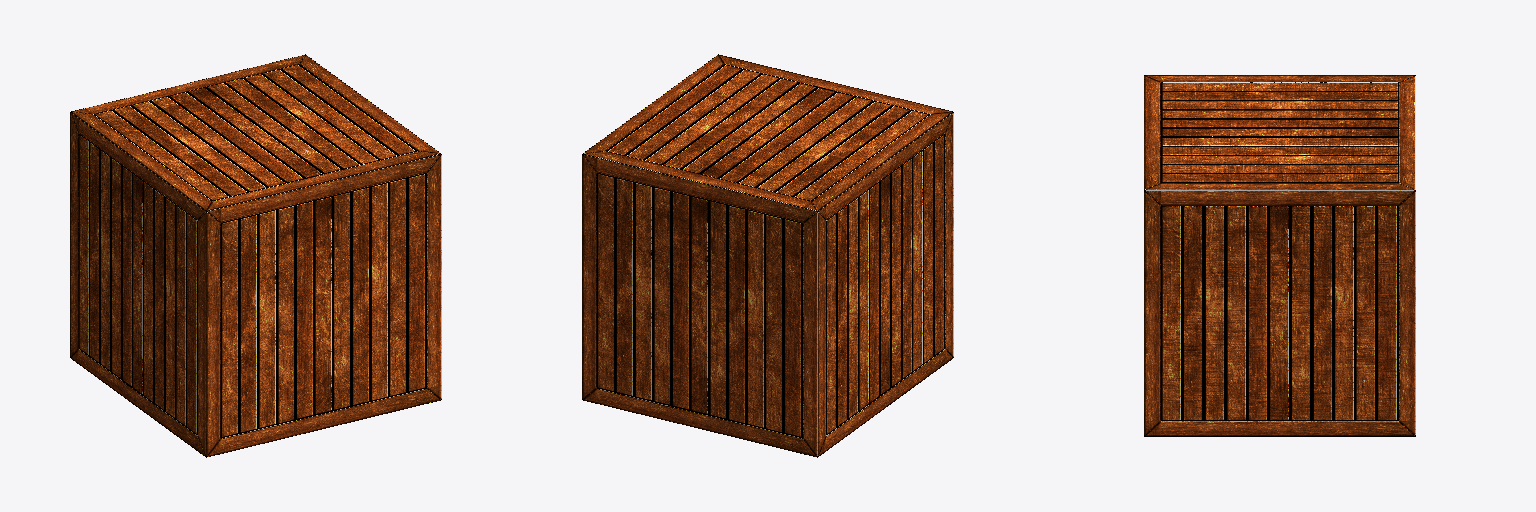
3 renders of one model, left to right at view 1: azimuth 30°, elevation 25°; view 2: azimuth 150°, elevation 25°; view 3: azimuth 270°, elevation 25°, orthographic.
Visible parts, largest first — view 1: wood-box-s3; view 2: wood-box-s3; view 3: wood-box-s3.
Boxes of the visible parts, x1=… form: wood-box-s3: x1=70, y1=54, x2=441, y2=457; wood-box-s3: x1=582, y1=54, x2=953, y2=457; wood-box-s3: x1=1144, y1=75, x2=1415, y2=436.
Bounding box in the file's own units: 2 × 2 × 2.
Materials: 1 (1 with a texture image).